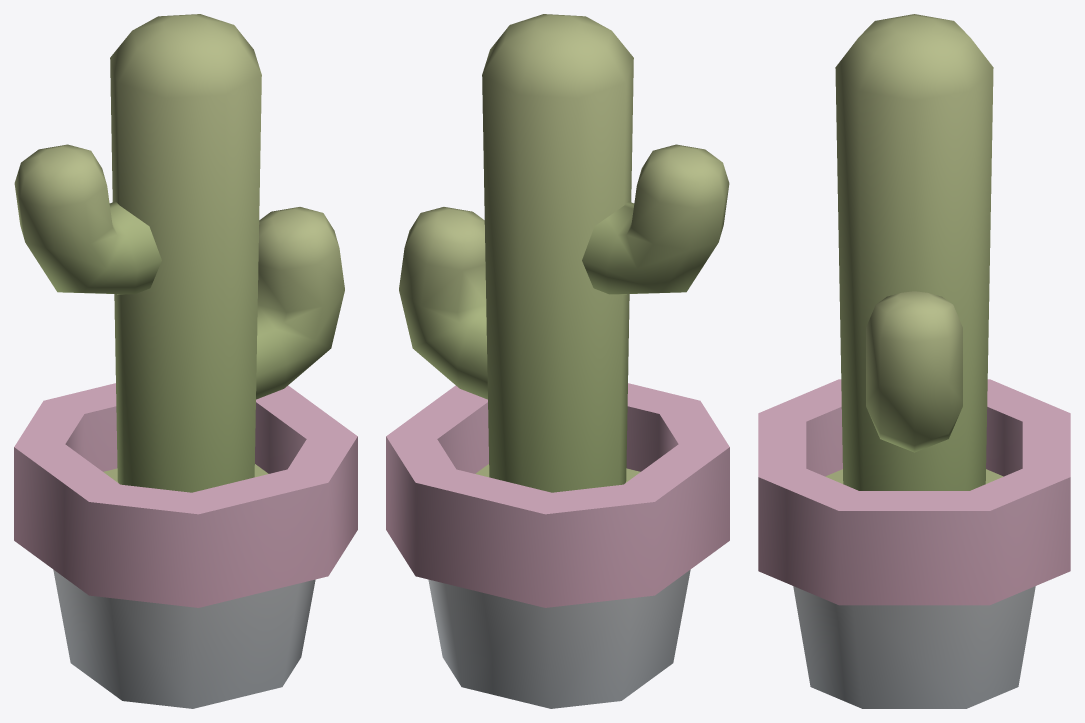
The model's file is plant-cactus-large.glb.
3 views of the same model, side by side, from view 1: azimuth 30°, elevation 25°; view 2: azimuth 150°, elevation 25°; view 3: azimuth 270°, elevation 25° (orthographic).
Visible parts, largest first — view 1: plant-cactus-large; view 2: plant-cactus-large; view 3: plant-cactus-large.
Boxes of the visible parts, x1,y1,x2,y2 form: plant-cactus-large: (14,14,357,708); plant-cactus-large: (386,14,729,708); plant-cactus-large: (758,14,1070,708).
Size of the model in its own units: 0.2688 by 0.5085 by 0.2253.
